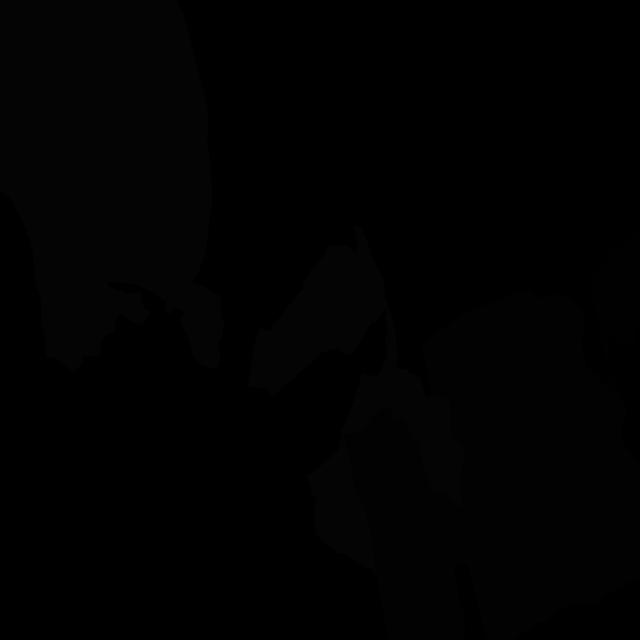cardboard: (422, 289, 640, 640), (343, 406, 466, 640)
rigid_plastic: (591, 231, 640, 393)
soft_plastic: (248, 225, 467, 577), (134, 0, 203, 90)
